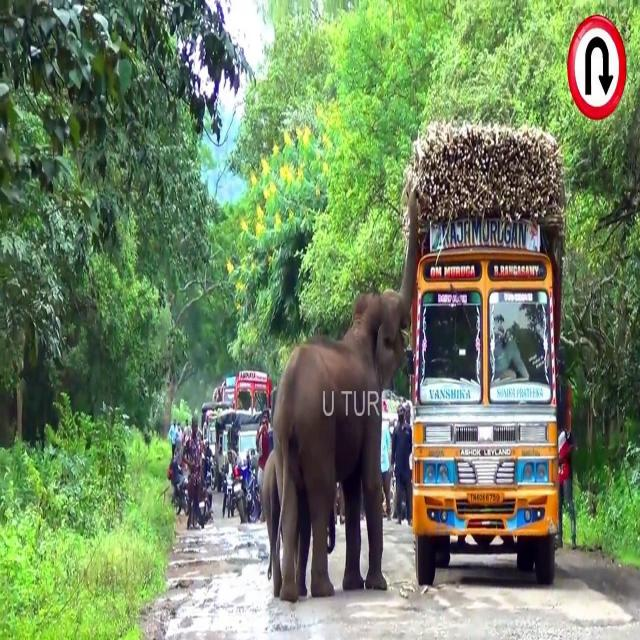Elephant: (271, 186, 421, 604)
